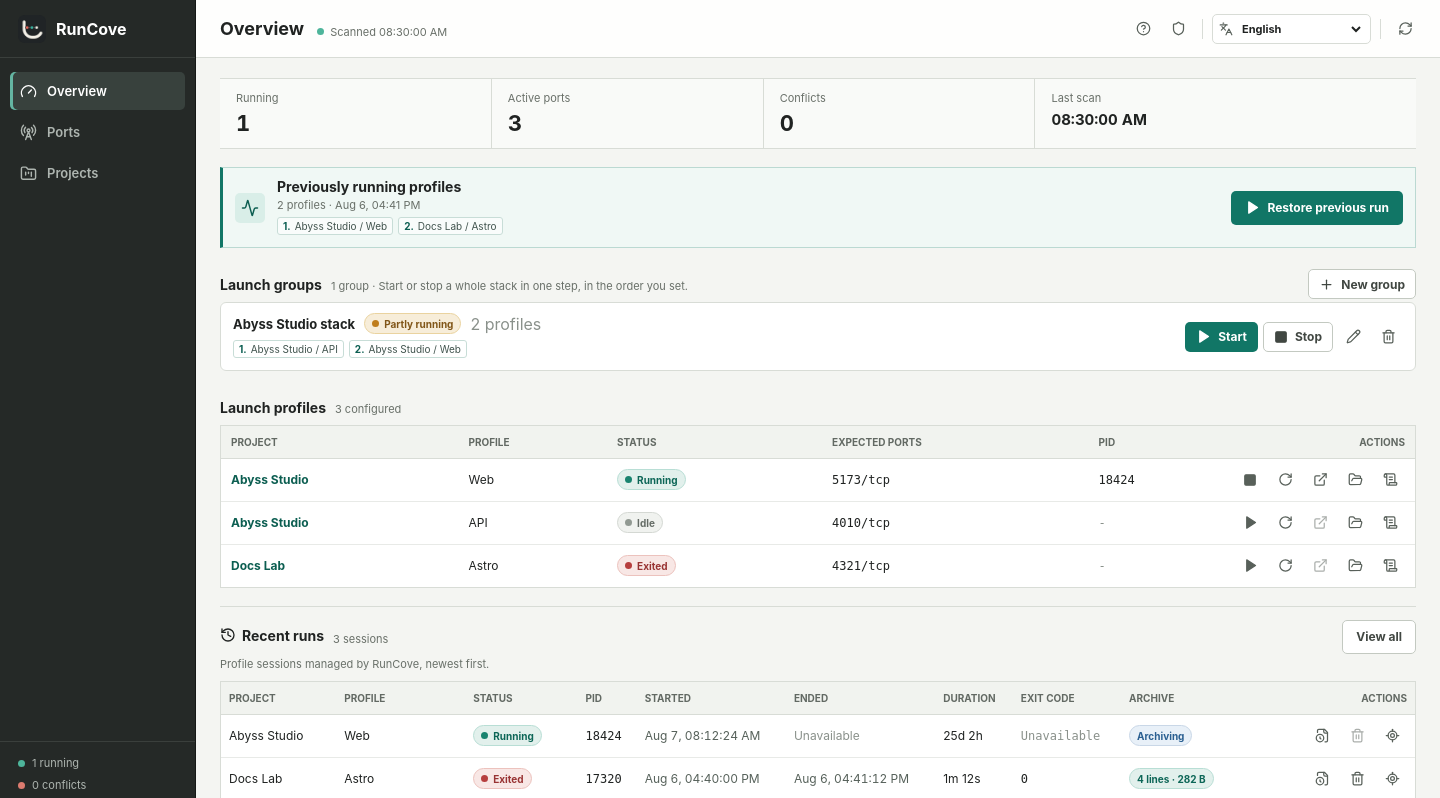
RunCove launch groups › saves the startup order the editor built
This screenshot has width=1440, height=798.
Expected: the heading "Launch groups" is shown, 220,276 -> 322,292
Click the button "New group" at [1362, 284], box 1308,269 -> 1416,299
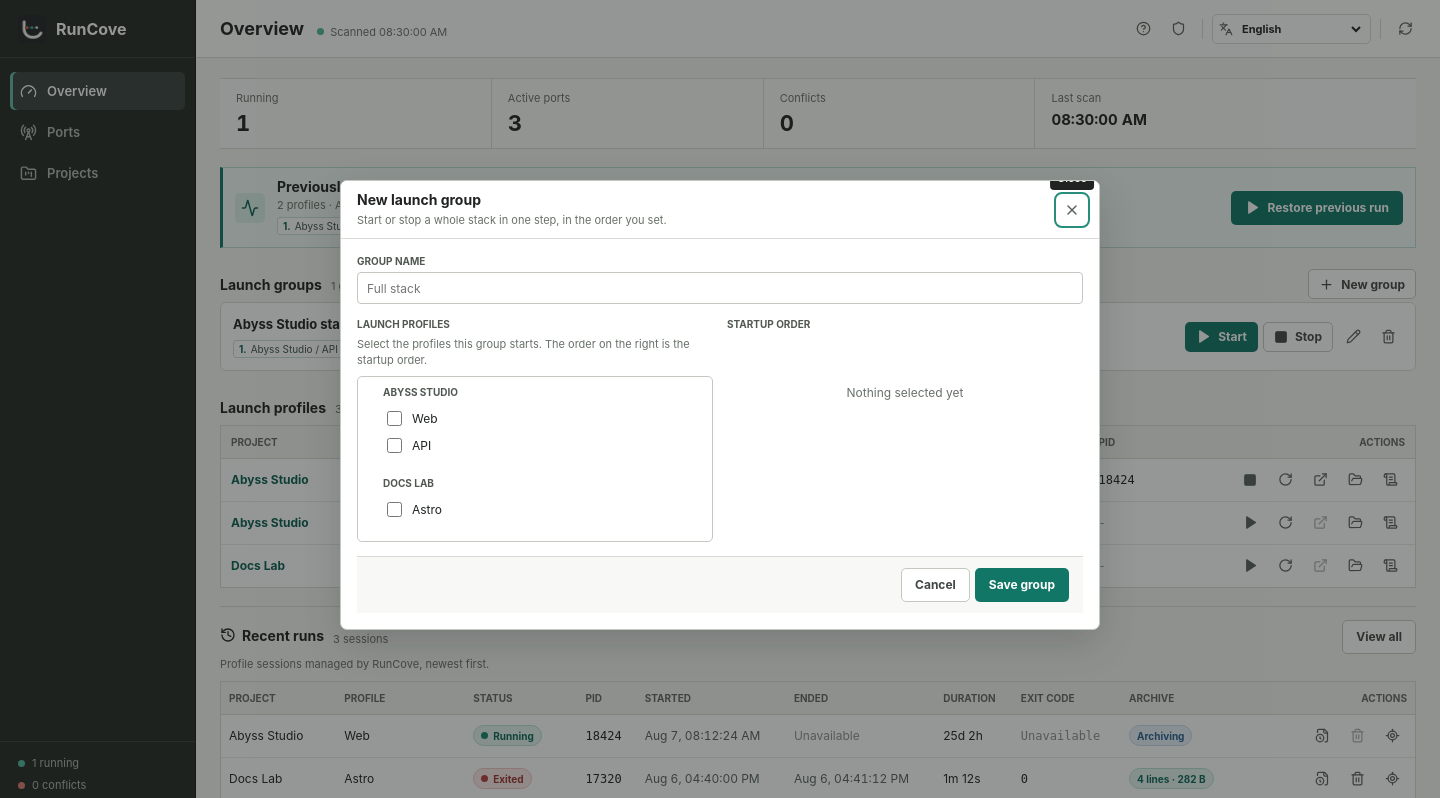
Type "Morning stack" into the field labelled "Group name" at [720, 288], box 357,272 -> 1083,304
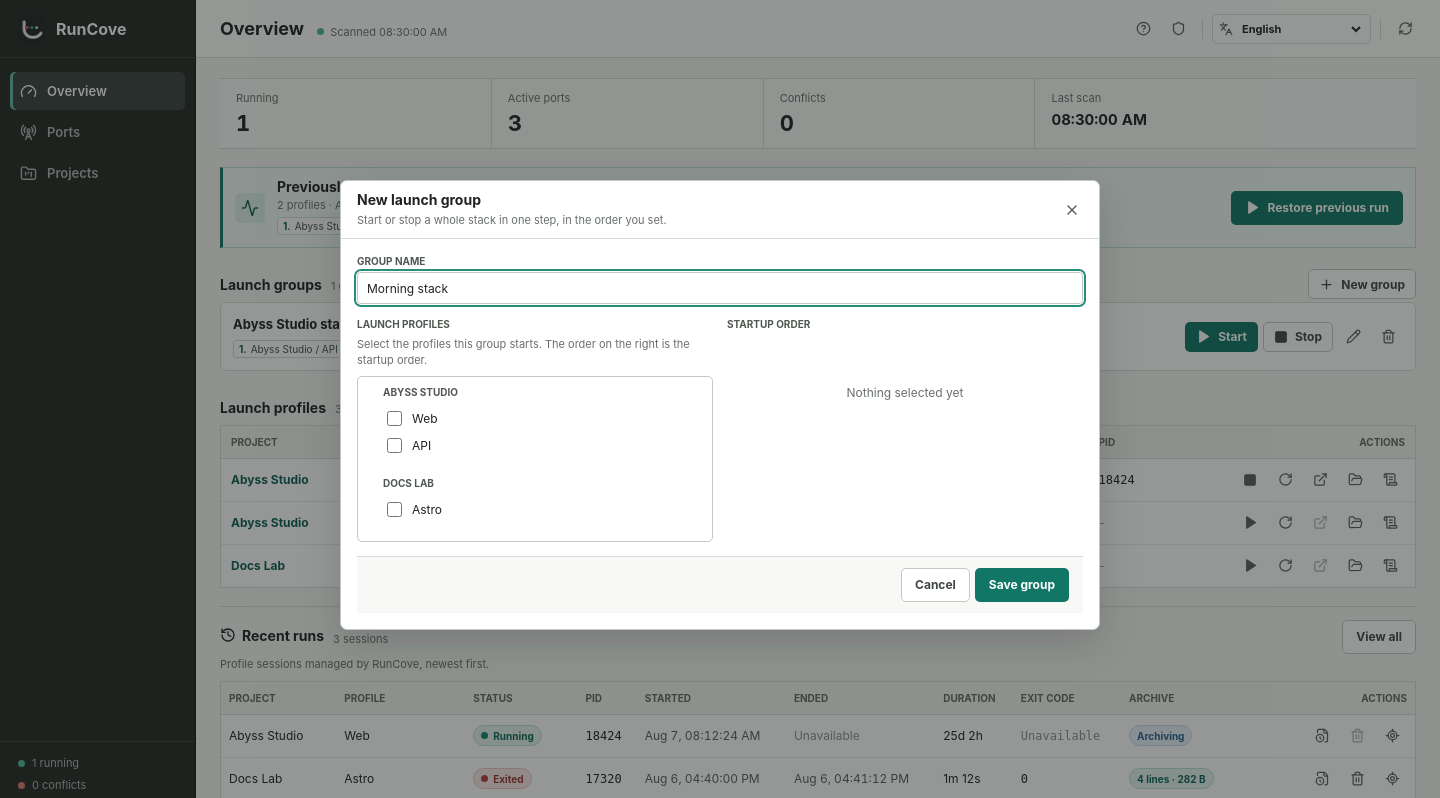
Click the checkbox labelled "Astro" at [394, 510], box 387,502 -> 402,517
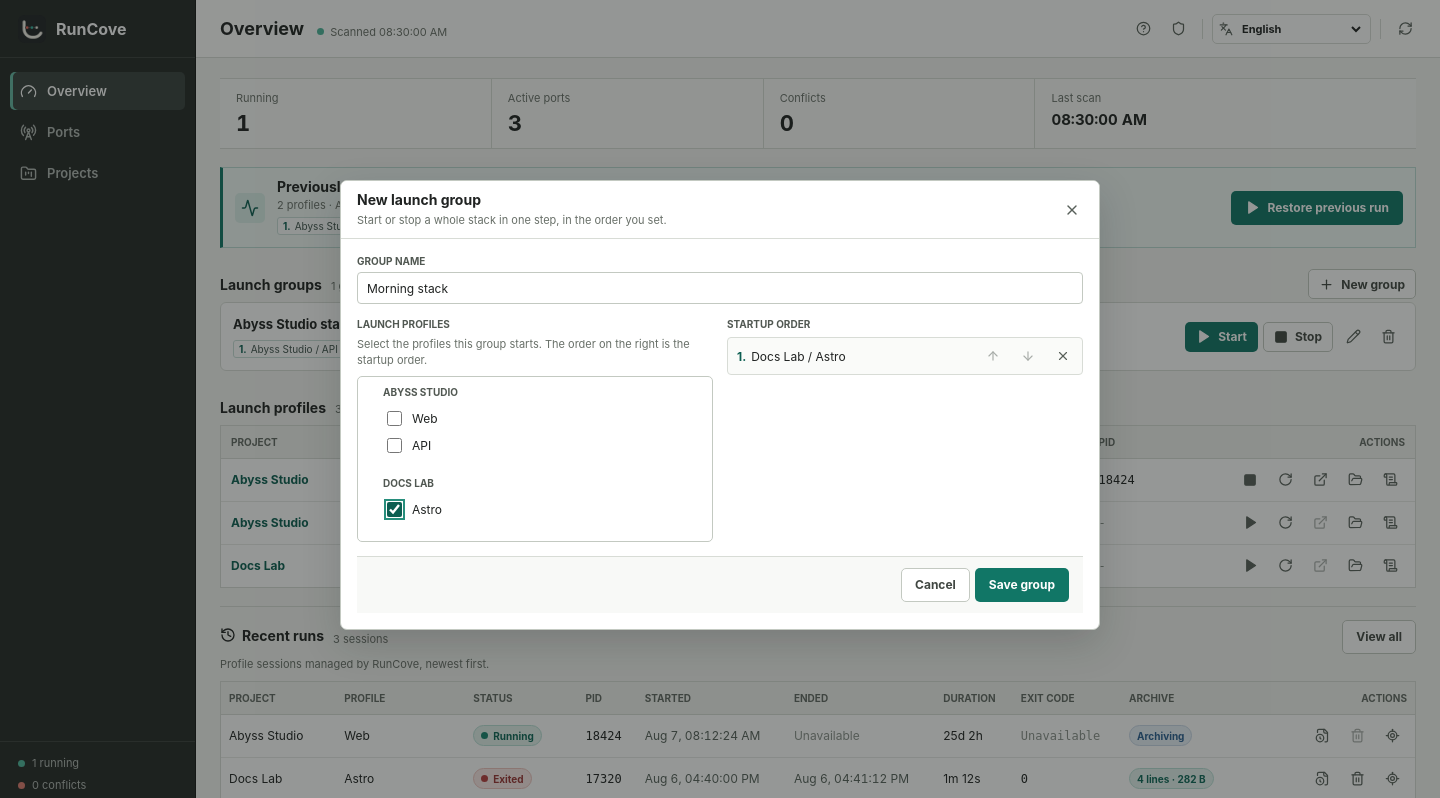
Click the checkbox labelled "API" at [394, 446], box 387,438 -> 402,453
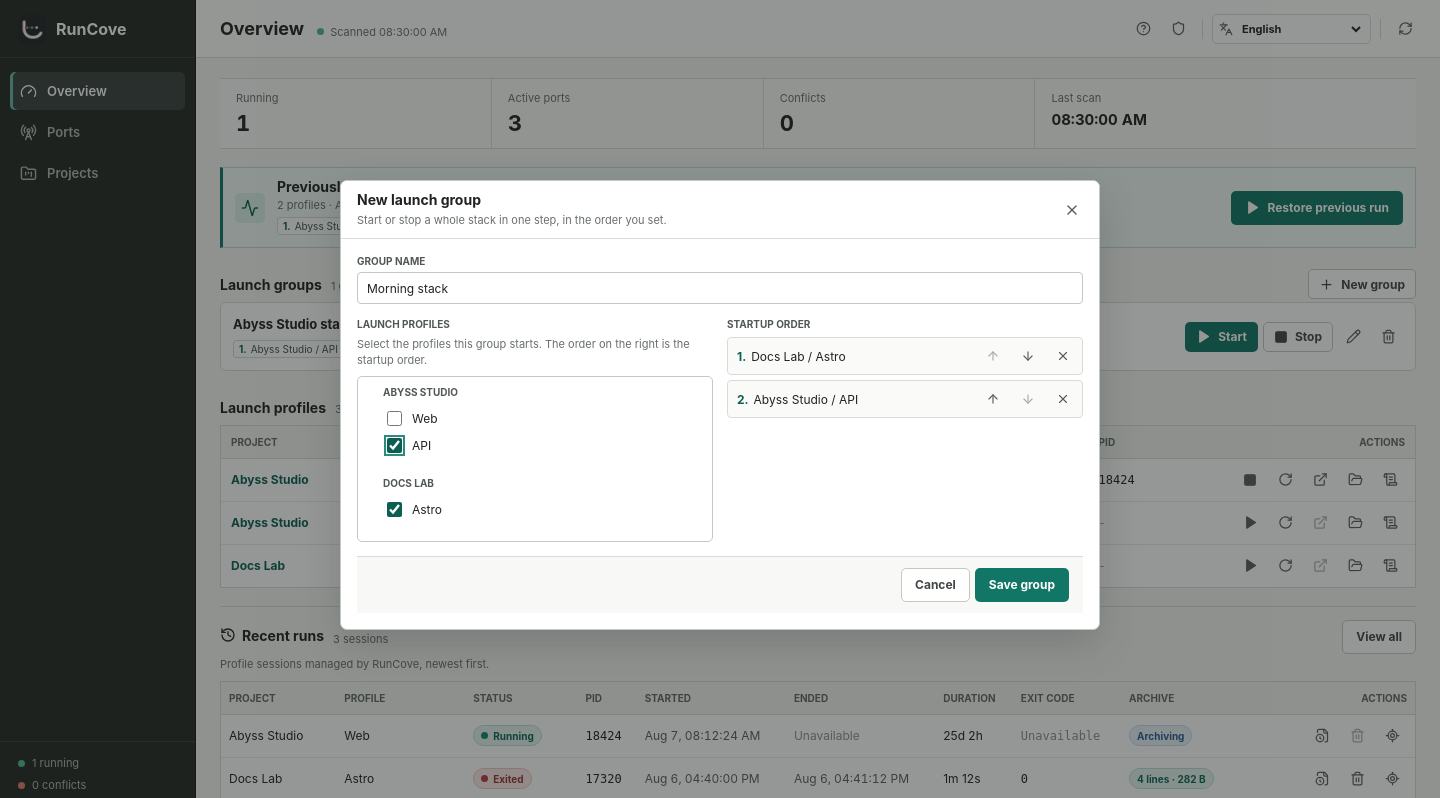
Click the button named "Move Abyss Studio / API earlier" at [993, 400], box 978,384 -> 1008,414
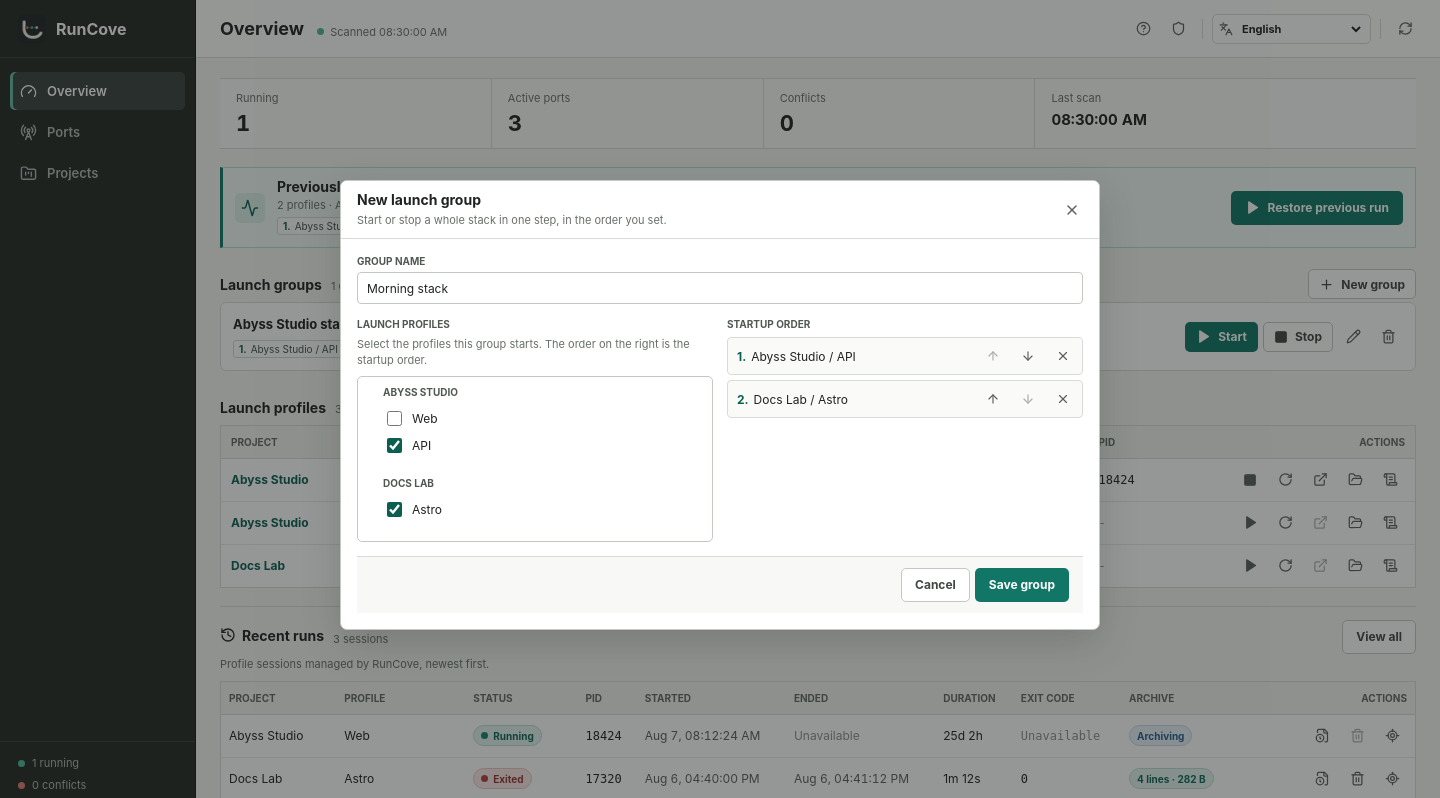
Click the button "Save group" at [1022, 584], box 975,568 -> 1069,602
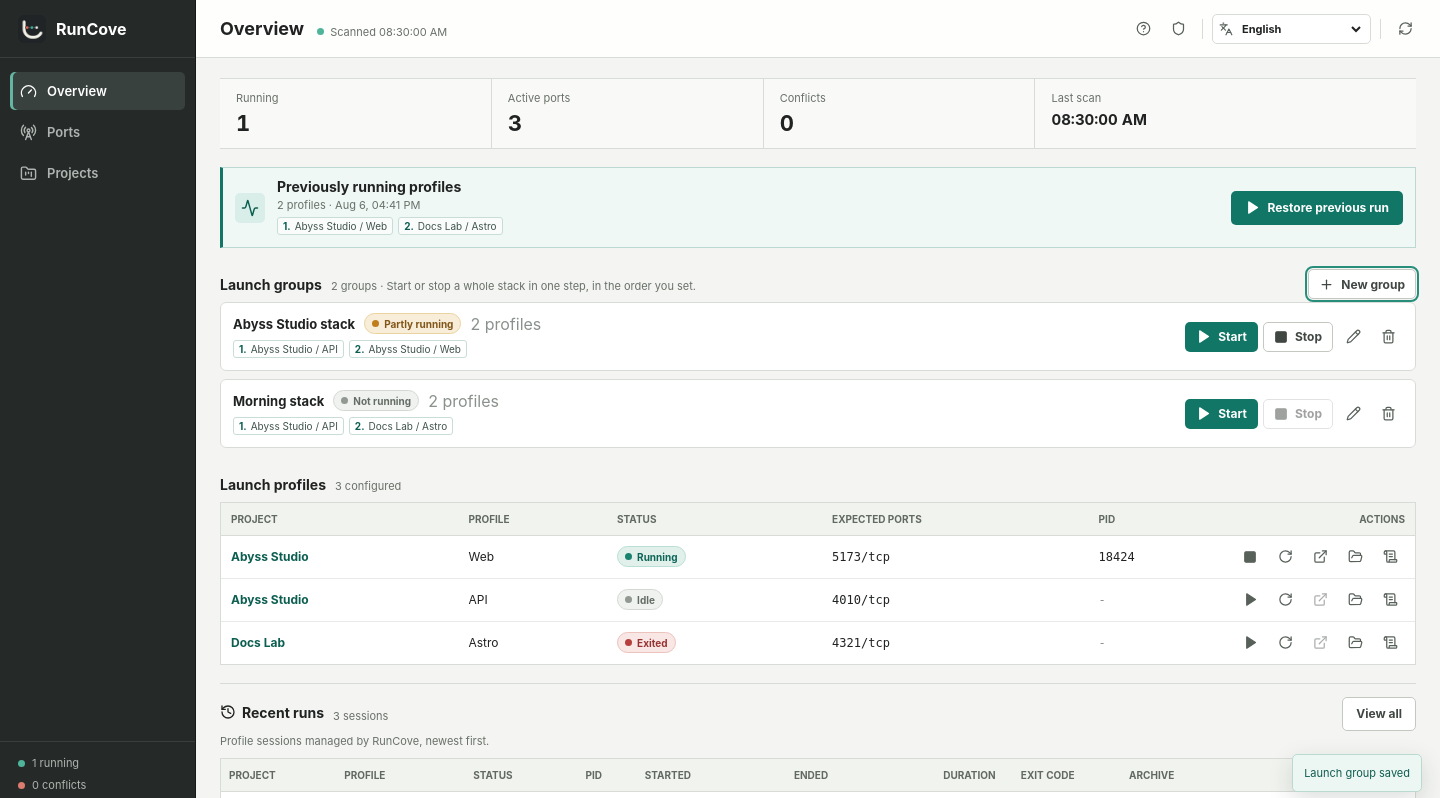
Result: the message reads "Launch group saved" at 1304,766 -> 1410,780
Result: the heading "New launch group" is gone
